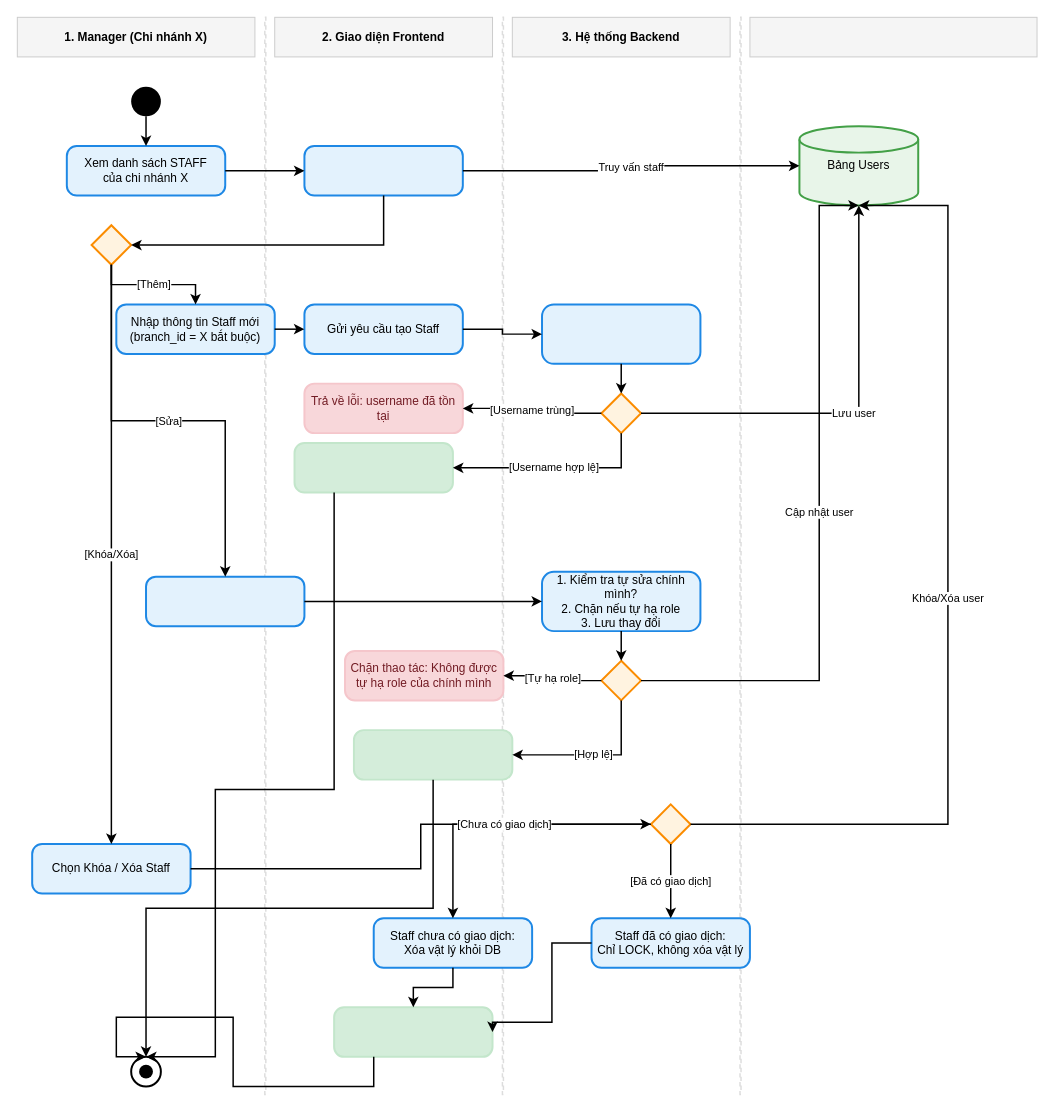
This 1054x1113 diagram has some shape labels left out. Here are the shapes that lost their labels. From the top down, the centre of each, then its label:
(893,36): 4. Cơ sở dữ liệu PostgreSQL
(383,170): Tải danh sách Staff cùng chi nhánh
(621,333): 1. Kiểm tra username trùng 2. Băm BCrypt password 3. Lưu vào DB
(373,467): Toast: Thêm Staff thành công & Refresh danh sách
(225,601): Sửa thông tin Staff
(432,754): Toast: Cập nhật thành công
(413,1031): Toast: Thao tác thành công & Refresh danh sách
